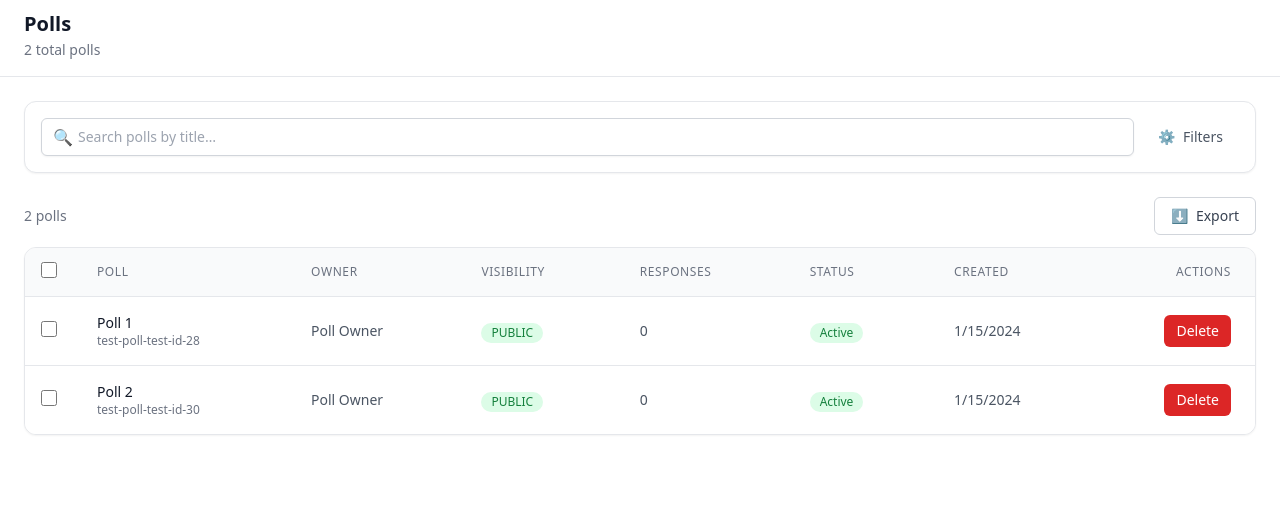
Test: AdminPollsPage › selects a poll when checkbox is clicked
This screenshot has width=1280, height=526.
Check: the table is shown, box top-left (25, 248), bottom-right (1255, 434)
Click the checkbox next to "Poll 1" at {"x": 49, "y": 329}, box top-left (41, 321), bottom-right (57, 337)
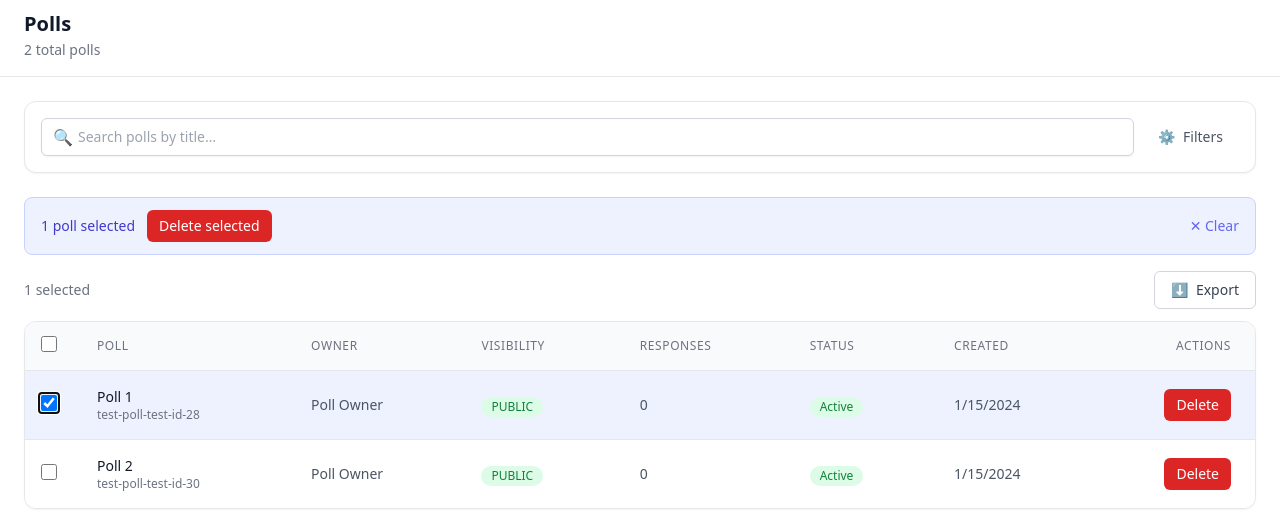
Check: the text "1 selected" is shown, box top-left (24, 280), bottom-right (90, 300)
Check: the text "1 poll selected" is shown, box top-left (41, 216), bottom-right (135, 236)
